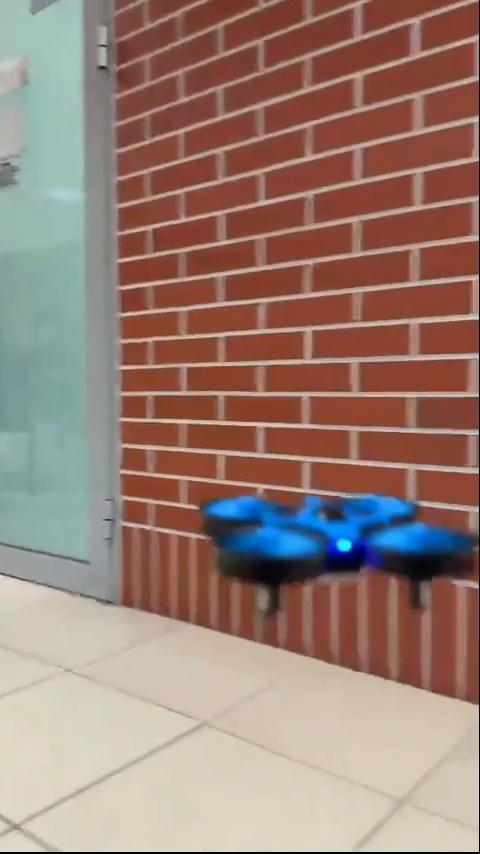drone: (206, 491, 477, 611)
